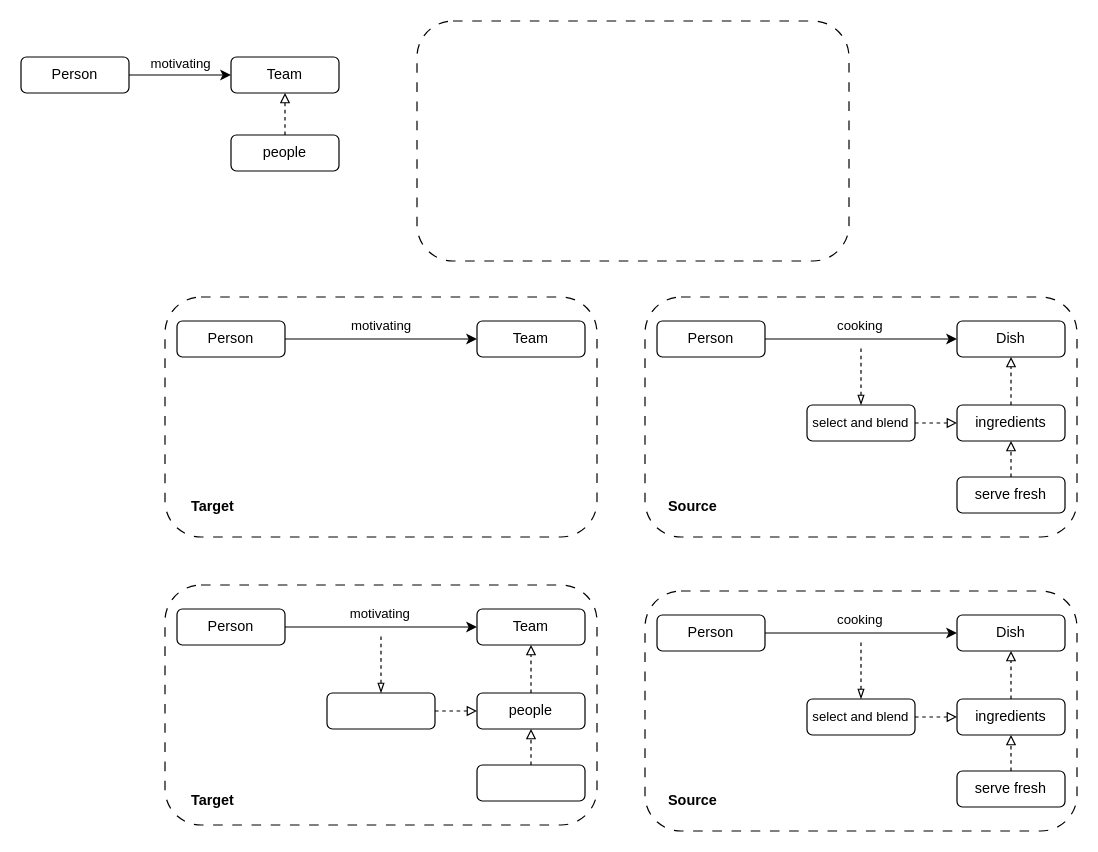
This 1098x852 diagram has some shape labels left out. The shapes that lost their labels are listed below. From the top down, each one's centre as x and y in pixels, then its label:
At (380,710): "delegate".
At (530,782): "up-skilled".
